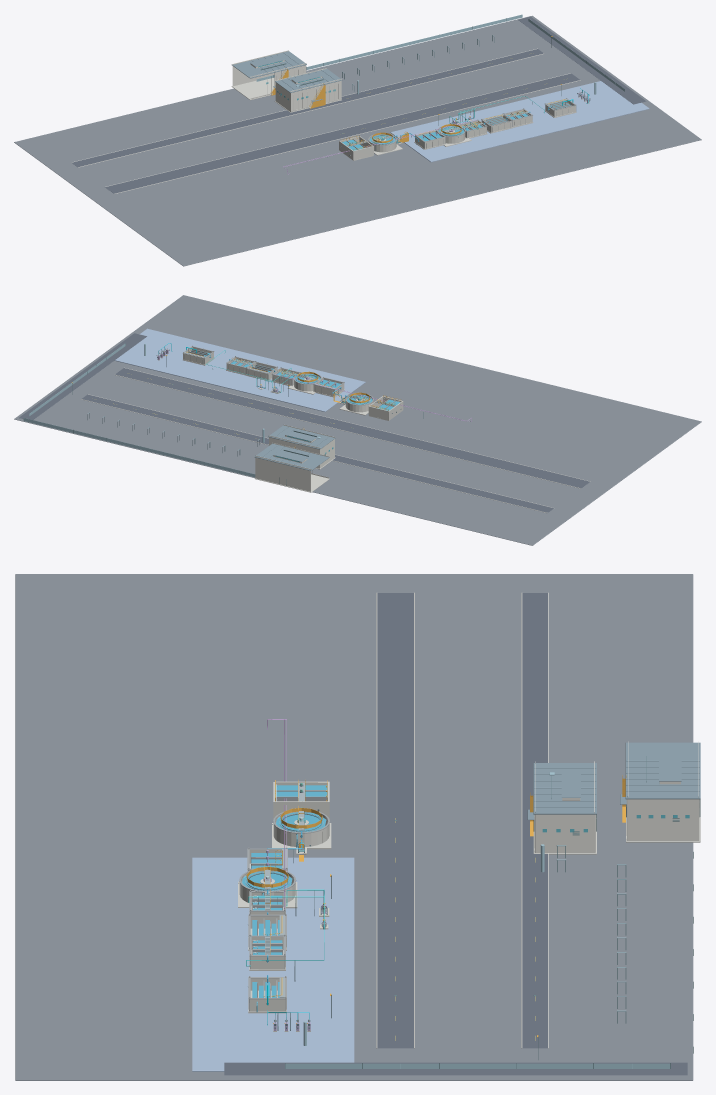
3 views of the same model, one above another, from view 1: azimuth 30°, elevation 25°; view 2: azimuth 150°, elevation 25°; view 3: azimuth 270°, elevation 25° (orthographic). The views are drawn at different scales.
Visible parts, largest first — view 1: render-batch-12, render-batch-9, render-batch-16, render-batch-24, render-batch-21, render-batch-13, render-batch-14, render-batch-15, render-batch-25, render-batch-6, render-batch-17; view 2: render-batch-12, render-batch-9, render-batch-16, render-batch-24, render-batch-21, render-batch-13, render-batch-14, render-batch-15, render-batch-6, render-batch-25, render-batch-17, render-batch-10; view 3: render-batch-12, render-batch-9, render-batch-16, render-batch-24, render-batch-13, render-batch-21, render-batch-6, render-batch-15, render-batch-14, render-batch-25, render-batch-17, render-batch-10.
Part boxes in pixels (box(x1,y1,x2,y2)): render-batch-12: box(14, 15, 701, 266); render-batch-9: box(71, 16, 646, 193); render-batch-16: box(390, 81, 649, 162); render-batch-24: box(71, 48, 580, 194); render-batch-21: box(231, 68, 589, 160); render-batch-13: box(231, 51, 342, 101); render-batch-14: box(256, 14, 624, 94); render-batch-15: box(346, 98, 576, 149); render-batch-25: box(270, 36, 586, 150); render-batch-6: box(342, 102, 570, 150); render-batch-17: box(346, 92, 589, 155); render-batch-12: box(14, 295, 701, 545); render-batch-9: box(19, 333, 589, 512); render-batch-16: box(114, 328, 365, 411); render-batch-24: box(81, 367, 590, 513); render-batch-21: box(157, 347, 403, 492); render-batch-13: box(254, 425, 335, 470); render-batch-14: box(23, 343, 320, 477); render-batch-15: box(183, 345, 395, 409); render-batch-6: box(191, 349, 399, 410); render-batch-25: box(71, 350, 400, 447); render-batch-17: box(157, 348, 395, 413); render-batch-10: box(67, 343, 423, 485); render-batch-12: box(15, 574, 693, 1080); render-batch-9: box(224, 593, 687, 1075); render-batch-16: box(192, 857, 354, 1071); render-batch-24: box(376, 592, 699, 1048); render-batch-13: box(527, 742, 700, 819); render-batch-21: box(238, 781, 700, 1031); render-batch-6: box(242, 785, 327, 1022); render-batch-15: box(239, 790, 329, 1011); render-batch-14: box(285, 772, 670, 1068); render-batch-25: box(246, 775, 626, 1037); render-batch-17: box(239, 783, 326, 1023); render-batch-10: box(249, 728, 700, 1068).
Bounding box in the file's own units: 318 × 14.7 × 182.
